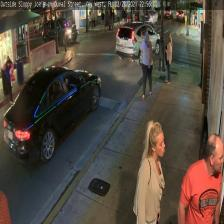person: (177, 132, 223, 223), (132, 119, 164, 223), (140, 34, 153, 99)
